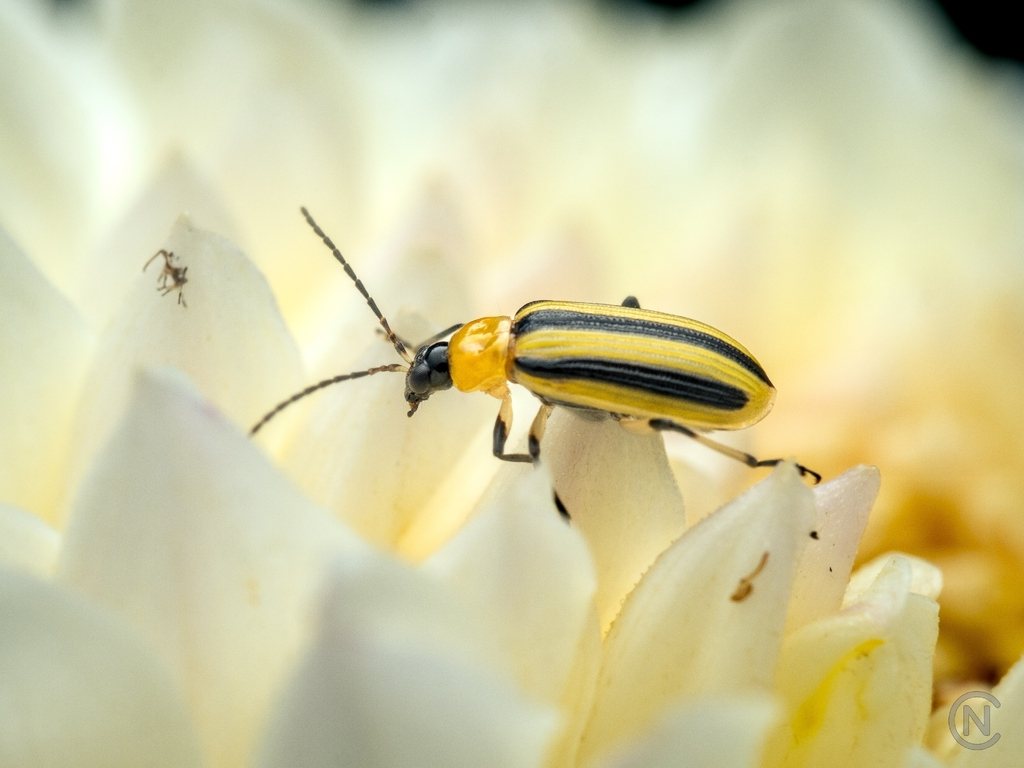potato_beetle: (184, 105, 922, 623)
